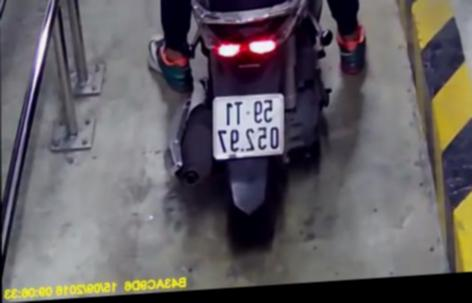License_Plate: (207, 90, 290, 166)
